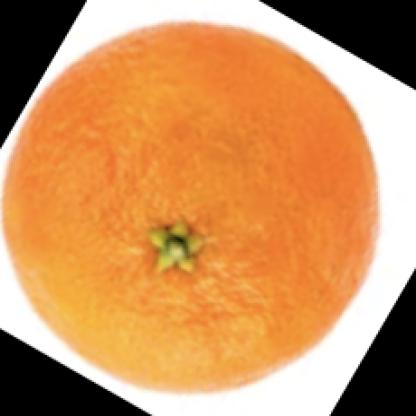fresh: (1, 24, 374, 394)
